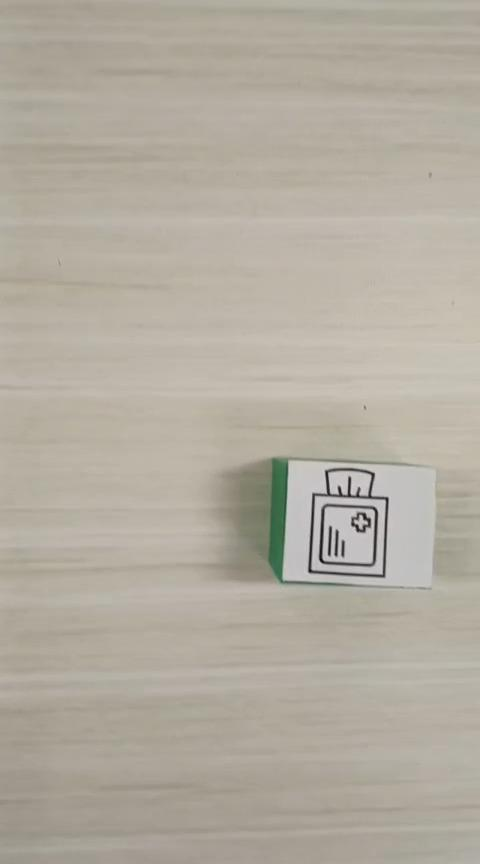Gauze: (267, 455, 437, 589)
